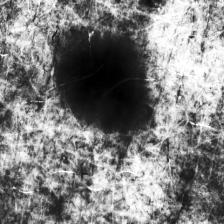Benign Marking or Mole: (59, 44, 143, 126)
